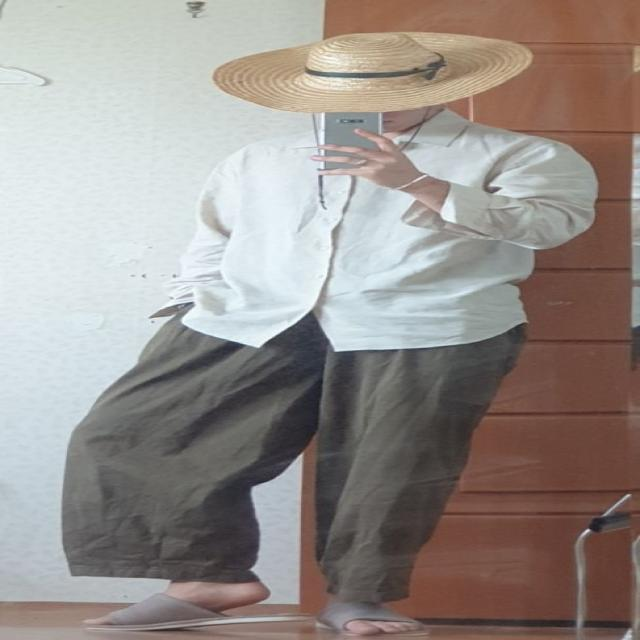cottonpants: (56, 298, 528, 602)
shirt: (173, 111, 604, 354)
